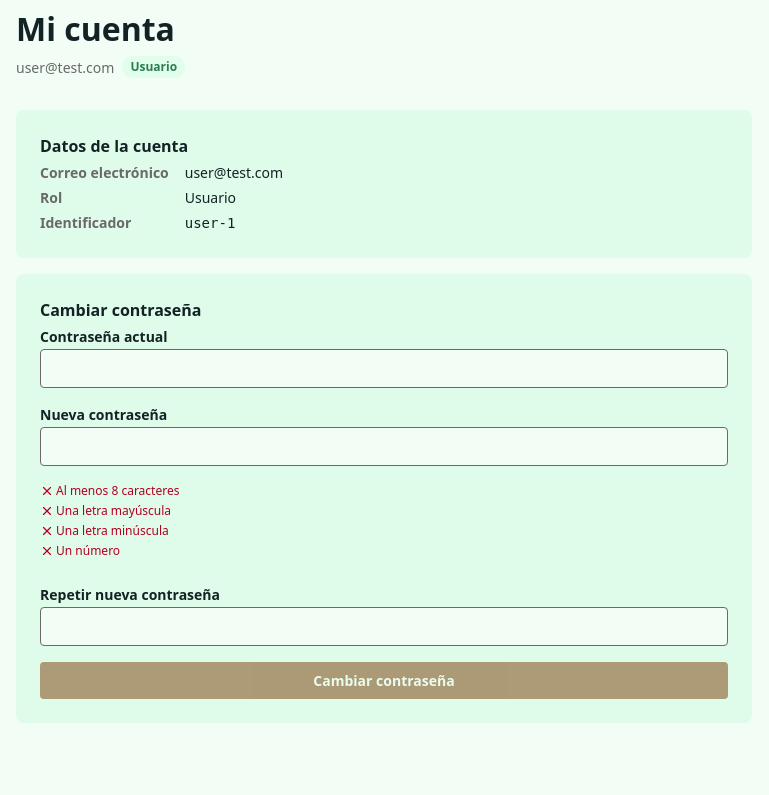
Test: CuentaPage › cambia la contrasena correctamente
In the password field labelled "Contraseña actual": (384, 369) [40, 349, 728, 388], type "Oldpass1"
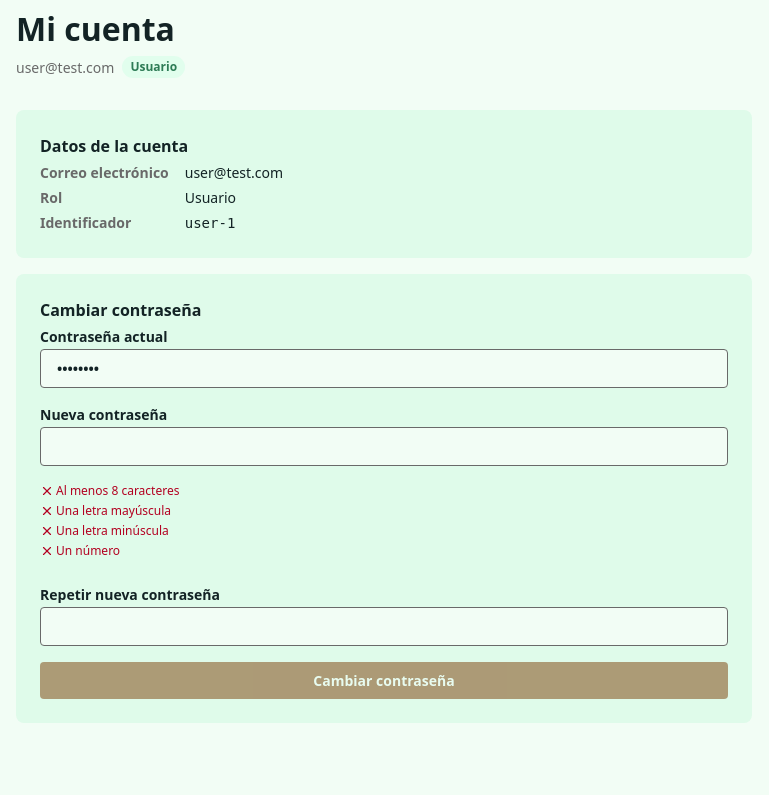
In the password field labelled "Nueva contraseña": (384, 447) [40, 427, 728, 466], type "Newpass1"
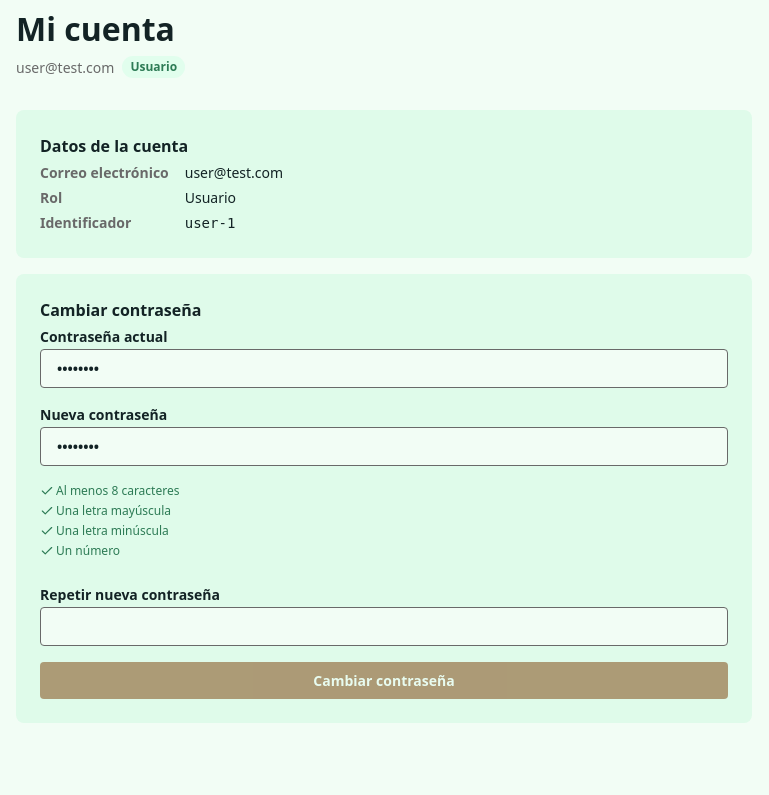
In the password field labelled "Repetir nueva contraseña": (384, 627) [40, 607, 728, 646], type "Newpass1"
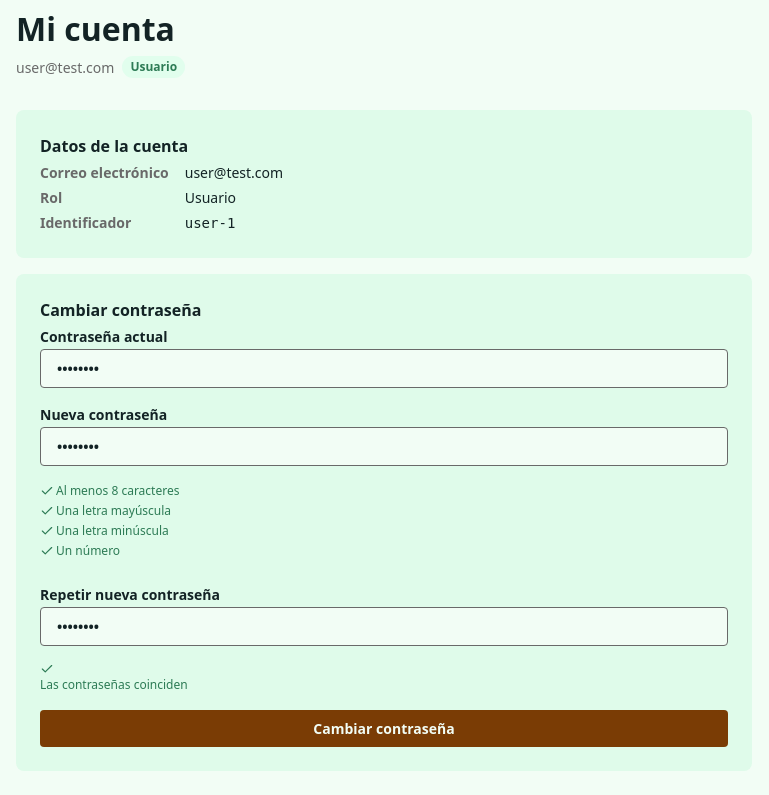
Click the button "Cambiar contraseña": (384, 729) [40, 710, 728, 747]
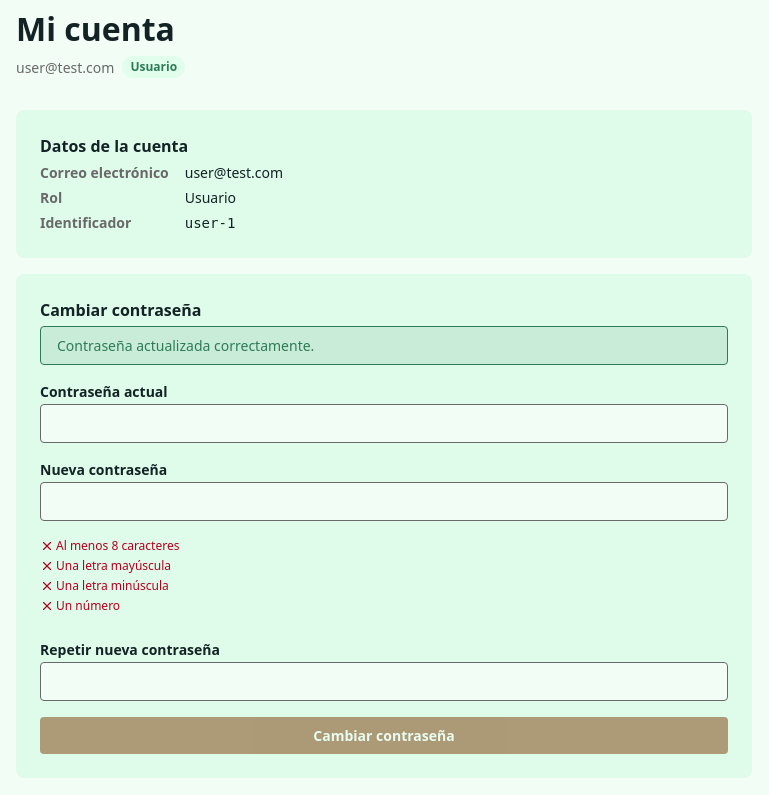
expect the text "Contraseña actualizada correctamente." is shown: met, box [40, 326, 728, 365]
